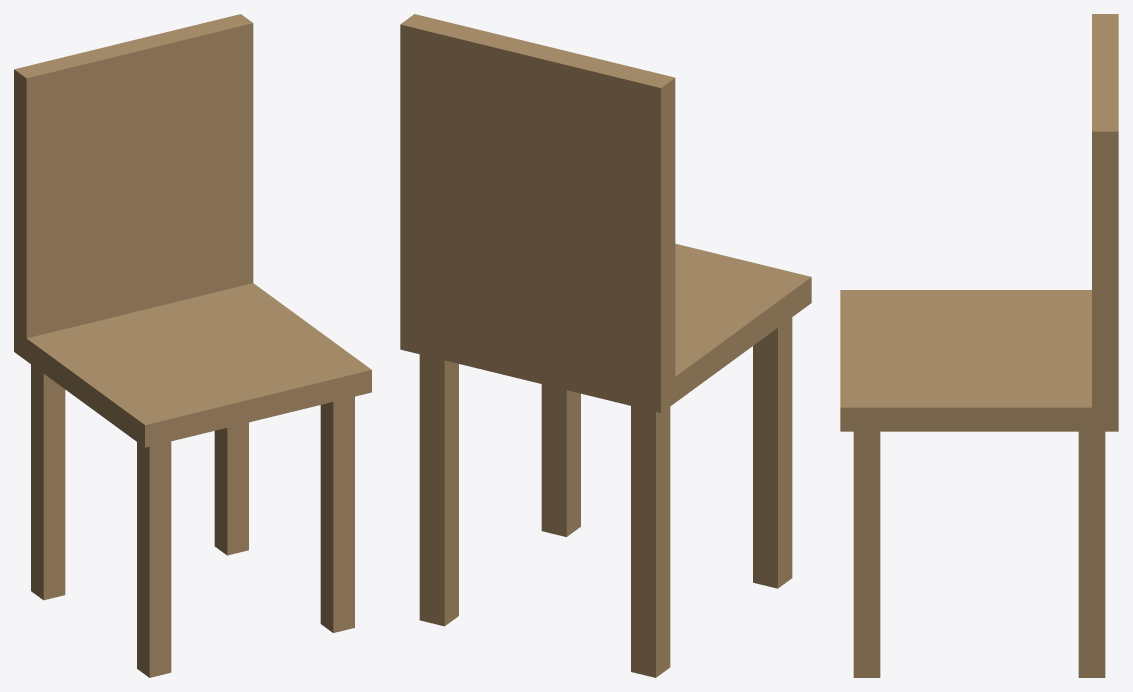
The model's file is chair.glb.
The picture shows the model from 3 angles, left to right: view 1: azimuth 30°, elevation 25°; view 2: azimuth 150°, elevation 25°; view 3: azimuth 270°, elevation 25°; orthographic projection. The views are drawn at different scales.
Parts seen in each view (by area): view 1: chair_back, chair_seat, chair_leg_0, chair_leg_1, chair_leg_3, chair_leg_2; view 2: chair_back, chair_seat, chair_leg_3, chair_leg_2, chair_leg_0, chair_leg_1; view 3: chair_seat, chair_back, chair_leg_1, chair_leg_2.
Part boxes in pixels (x1,y1,x2,y2): chair_back: [14, 14, 253, 338]; chair_seat: [14, 283, 371, 447]; chair_leg_0: [137, 441, 171, 677]; chair_leg_1: [320, 396, 354, 632]; chair_leg_3: [31, 364, 65, 600]; chair_leg_2: [214, 422, 248, 555]; chair_back: [400, 14, 675, 386]; chair_seat: [400, 243, 811, 412]; chair_leg_3: [631, 406, 670, 677]; chair_leg_2: [419, 354, 458, 626]; chair_leg_0: [753, 317, 792, 588]; chair_leg_1: [541, 384, 580, 536]; chair_seat: [840, 290, 1118, 431]; chair_back: [1092, 14, 1118, 407]; chair_leg_1: [853, 431, 880, 677]; chair_leg_2: [1078, 431, 1105, 677].
Bounding box in the file's own units: 0.42 × 0.92 × 0.42.
